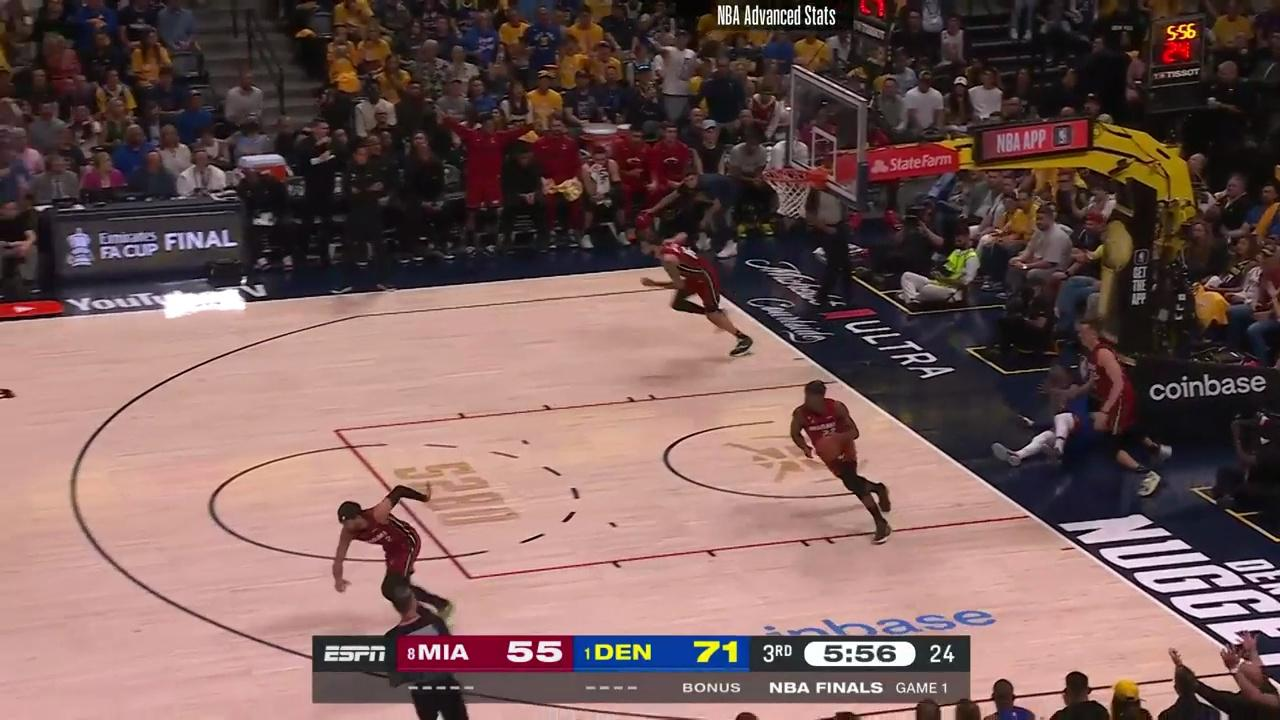Backboard: (788, 71, 873, 208)
Ball: (816, 435, 842, 460)
Basket: (766, 166, 825, 222)
Person: (784, 377, 906, 551), (337, 487, 456, 639), (645, 228, 757, 361), (1080, 309, 1154, 490)
Shot Clock: (1136, 14, 1213, 116), (851, 0, 888, 58)
